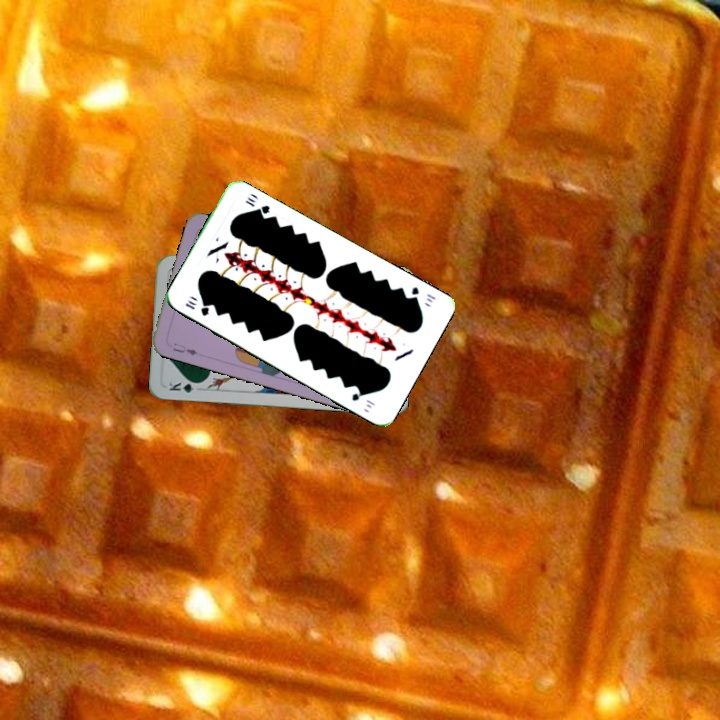EU: (169, 339, 200, 358)
G10: (181, 295, 212, 319), (406, 283, 439, 305)
GK: (165, 378, 204, 395)
